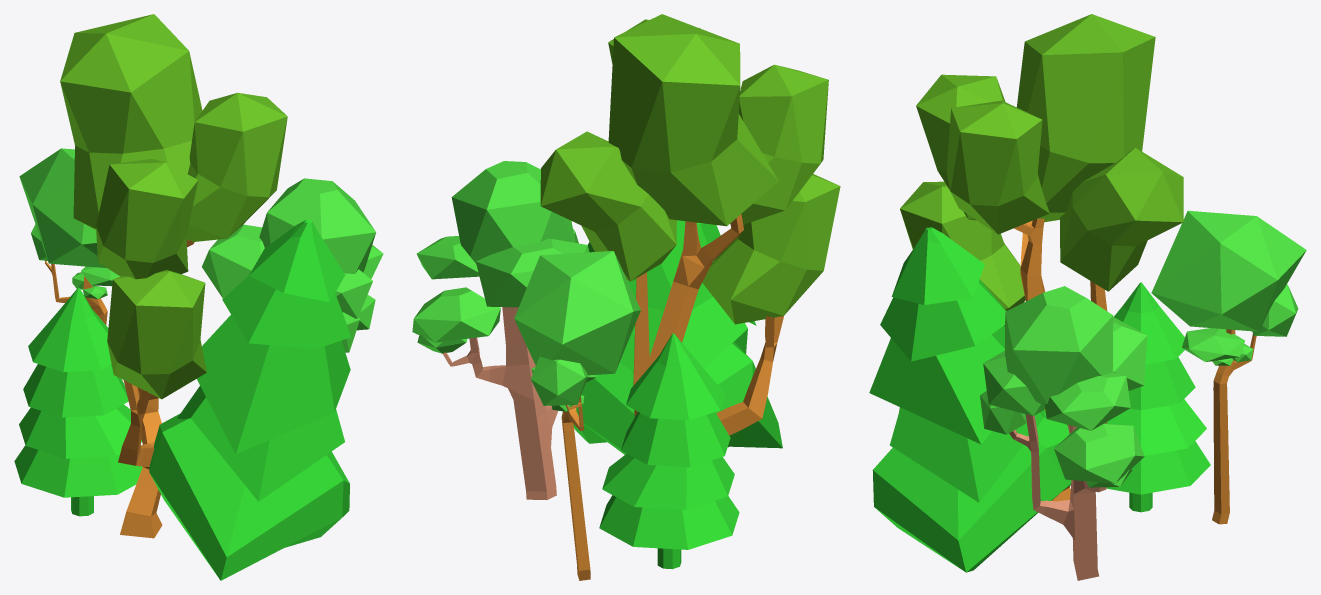
File: forest1-7.fbx
3 views of the same model, side by side, from view 1: azimuth 30°, elevation 25°; view 2: azimuth 150°, elevation 25°; view 3: azimuth 270°, elevation 25° (orthographic). The views are drawn at different scales.
Parts seen in each view (by area): view 1: Icosphere.027, Low poly tree, Circle, Circle.002, Icosphere.029, Icosphere.028, Icosphere.030, Circle.001, Circle.003, Icosphere.019, Icosphere.007, Circle.004 (+5 smaller); view 2: Icosphere.027, Low poly tree, Icosphere.007, Icosphere.028, Icosphere.026, Icosphere.030, Cube.006, Icosphere.019, Circle, Cube.005, Icosphere.025, Icosphere.022 (+5 smaller); view 3: Icosphere.027, Circle, Icosphere.007, Low poly tree, Icosphere.026, Icosphere.029, Icosphere.019, Circle.002, Circle.001, Icosphere.028, Circle.003, Circle.004 (+11 smaller).
Boxes of the visible parts, <box> form: Icosphere.027: <box>60,14,202,229</box>; Low poly tree: <box>14,287,142,516</box>; Circle: <box>149,413,349,580</box>; Circle.002: <box>197,315,350,454</box>; Icosphere.029: <box>186,92,287,241</box>; Icosphere.028: <box>107,270,206,399</box>; Icosphere.030: <box>96,159,198,279</box>; Circle.001: <box>177,386,344,501</box>; Circle.003: <box>222,275,351,348</box>; Icosphere.019: <box>259,178,375,273</box>; Icosphere.007: <box>19,148,106,267</box>; Circle.004: <box>249,219,345,302</box>; Icosphere.027: <box>608,14,778,226</box>; Low poly tree: <box>599,333,739,569</box>; Icosphere.007: <box>514,251,640,375</box>; Icosphere.028: <box>702,174,840,324</box>; Icosphere.026: <box>540,131,676,281</box>; Icosphere.030: <box>739,64,828,224</box>; Cube.006: <box>633,214,783,435</box>; Icosphere.019: <box>451,161,575,263</box>; Circle: <box>573,342,782,454</box>; Cube.005: <box>443,307,558,499</box>; Icosphere.025: <box>476,238,589,307</box>; Icosphere.022: <box>412,287,500,342</box>; Icosphere.027: <box>1016,14,1155,222</box>; Circle: <box>872,410,1071,572</box>; Icosphere.007: <box>1151,210,1306,331</box>; Low poly tree: <box>1106,282,1210,512</box>; Icosphere.026: <box>1060,147,1183,291</box>; Icosphere.029: <box>946,100,1049,234</box>; Icosphere.019: <box>1005,286,1113,405</box>; Circle.002: <box>869,326,1004,444</box>; Circle.001: <box>889,407,1046,502</box>; Icosphere.028: <box>900,181,1025,326</box>; Circle.003: <box>880,280,1006,361</box>; Circle.004: <box>891,227,984,304</box>.
Size of the model in its own units: 440 by 636 by 512.
